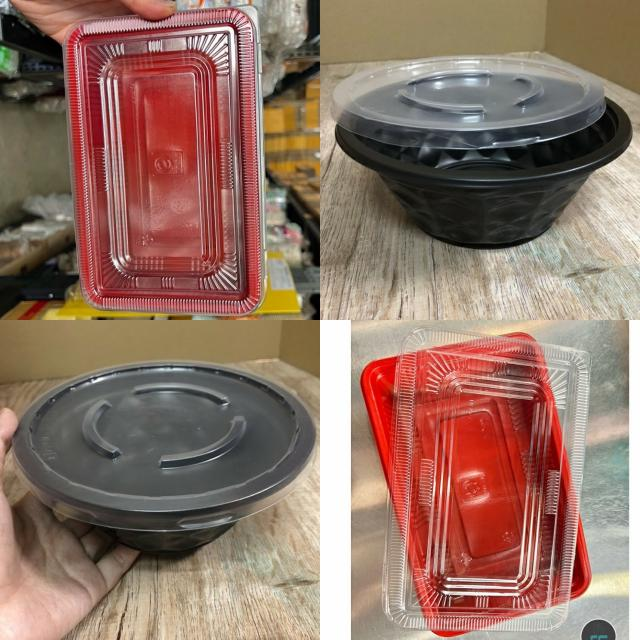Single-Use-Plastic: (385, 328, 589, 631), (64, 8, 265, 315), (331, 55, 632, 246), (14, 362, 315, 551), (331, 56, 606, 149)
